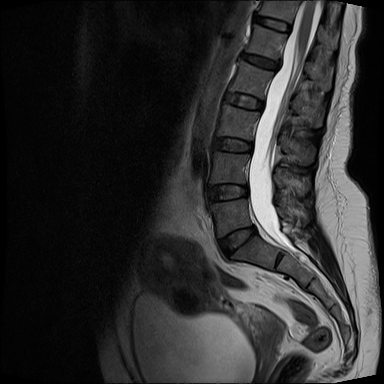Degenerative Disc Disease (DDD): (232, 50, 289, 73)
Normal IVD: (214, 220, 260, 262), (216, 86, 266, 115), (203, 177, 250, 207), (249, 7, 294, 37), (206, 130, 255, 155)
